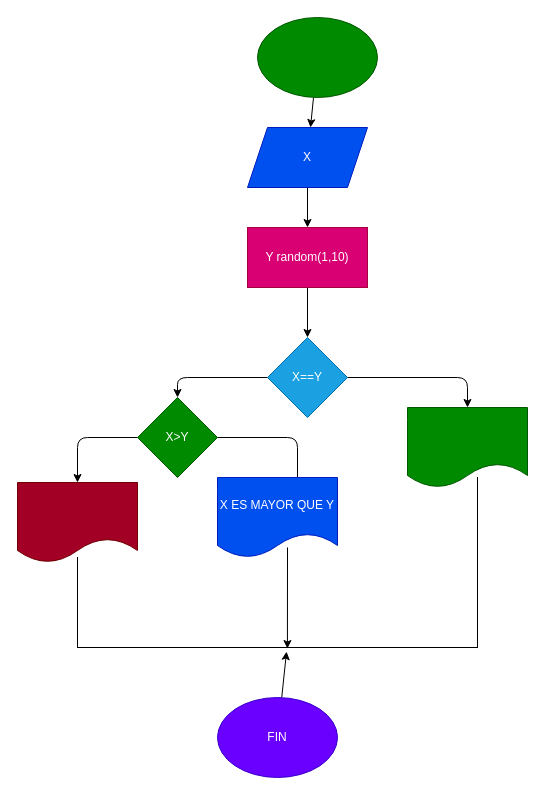
This 545x795 diagram has some shape labels left out. The box of each missing label's shape, as (x1, y1, x2, y2) in pixels:
ADIVINO: (406, 406, 528, 488)
INICIO: (256, 16, 378, 98)
X ES MENOR QUE Y: (16, 482, 138, 562)
